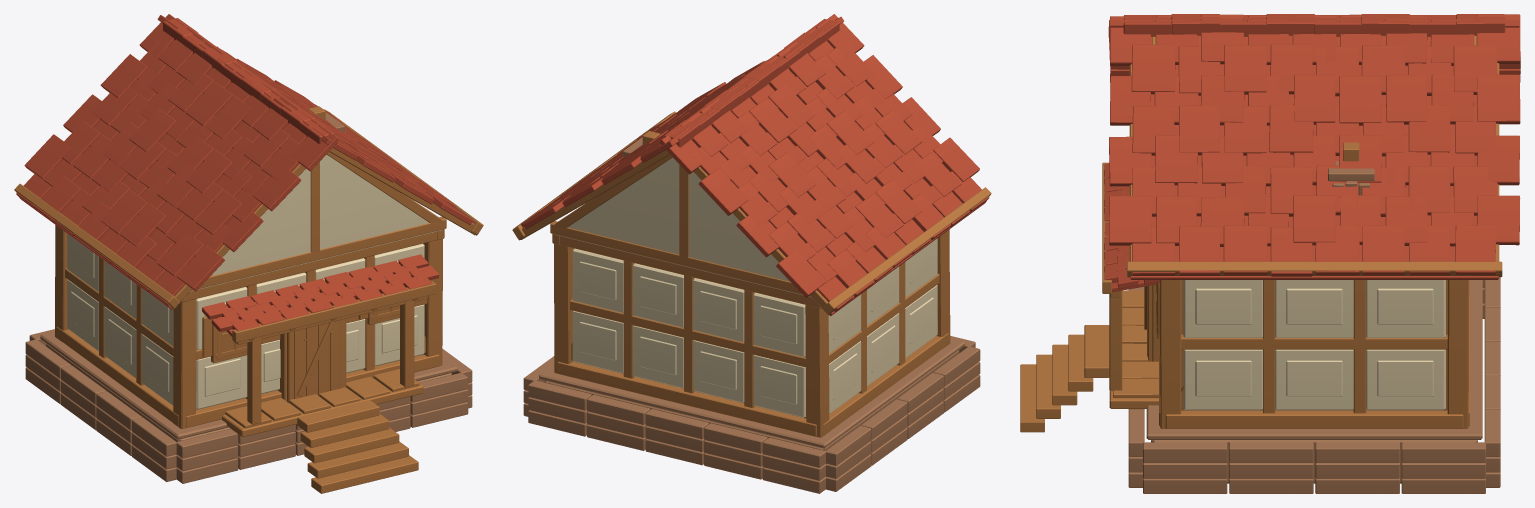
Rendered from house_cottage_a.glb.
3 renders of one model, left to right at view 1: azimuth 30°, elevation 25°; view 2: azimuth 150°, elevation 25°; view 3: azimuth 270°, elevation 25°, orthographic. The views are drawn at different scales.
Parts seen in each view (by area): view 1: house_cottage_a_LOD0; view 2: house_cottage_a_LOD0; view 3: house_cottage_a_LOD0.
Boxes of the visible parts, x1,y1,x2,y2 form: house_cottage_a_LOD0: (14,14,483,493); house_cottage_a_LOD0: (512,14,991,493); house_cottage_a_LOD0: (1020,14,1520,493).
Size of what is drawn, in the model's own units: 6.12 by 5.84 by 6.85.
